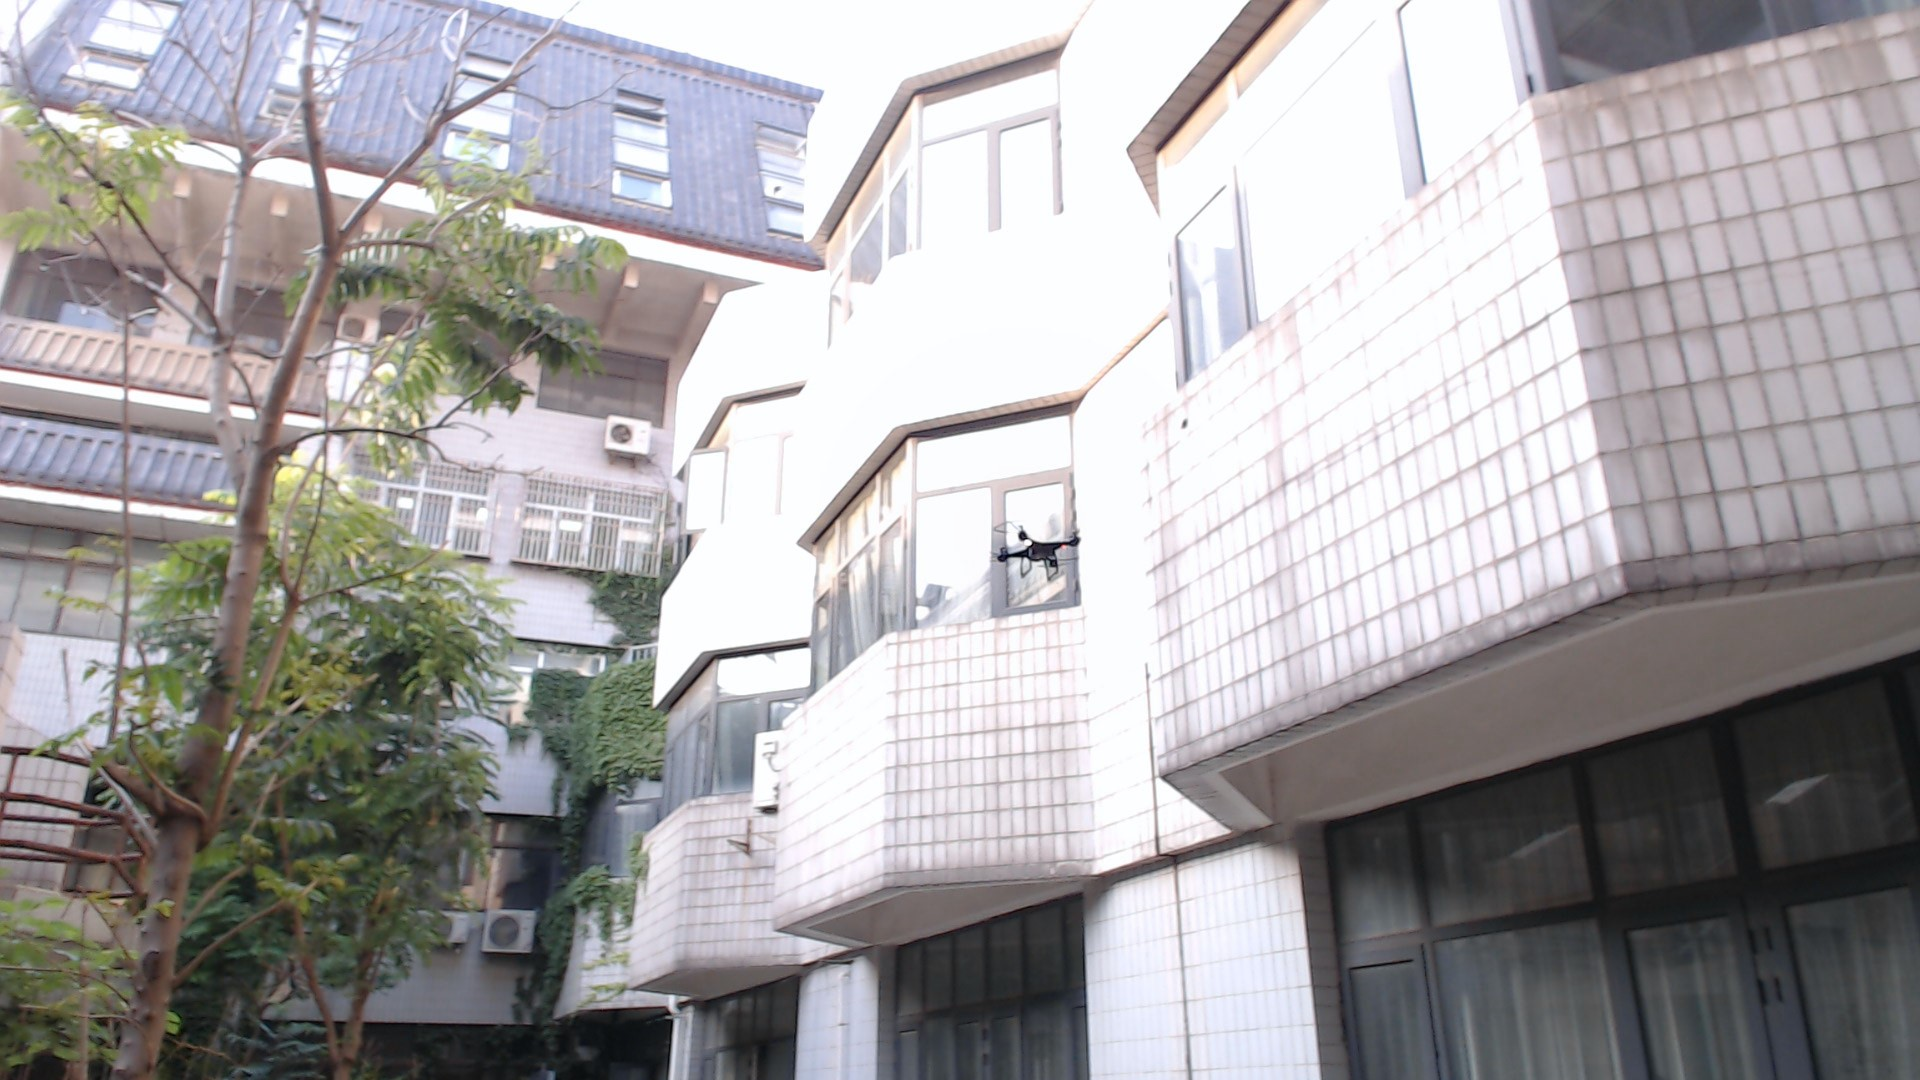drone: (967, 495, 1114, 601)
